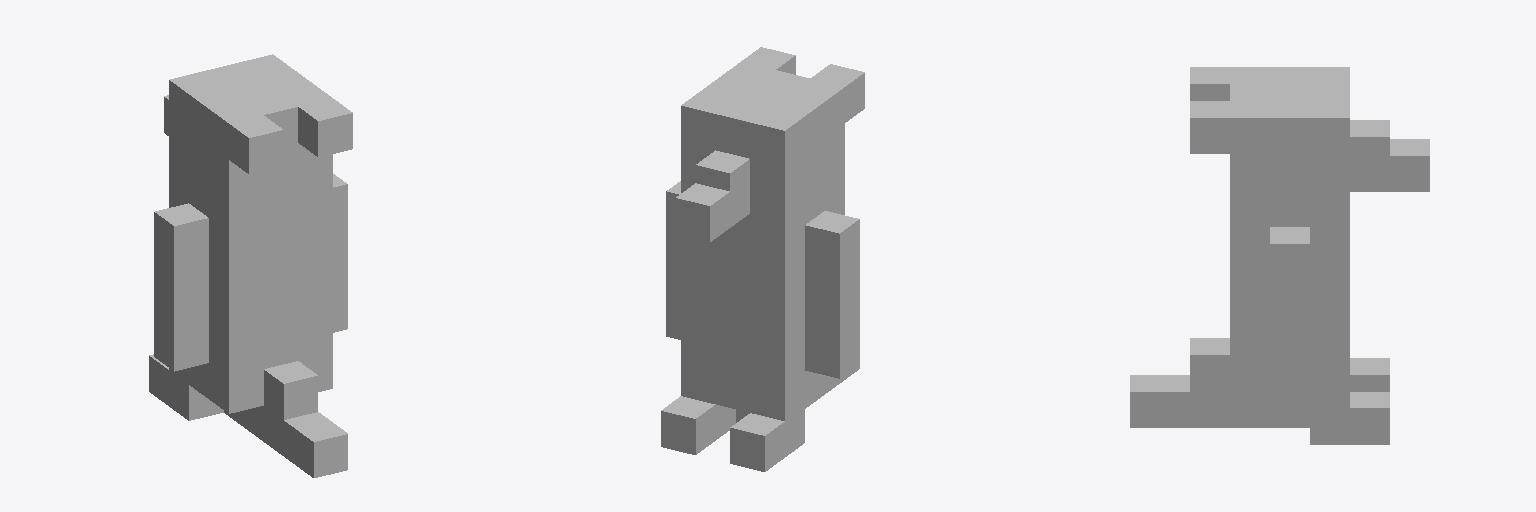
File: penguin.obj
3 renders of one model, left to right at view 1: azimuth 30°, elevation 25°; view 2: azimuth 150°, elevation 25°; view 3: azimuth 270°, elevation 25°, orthographic.
Parts seen in each view (by area): view 1: penguin; view 2: penguin; view 3: penguin.
Boxes of the visible parts, <box> form: penguin: <box>149,54,352,477</box>; penguin: <box>661,47,864,471</box>; penguin: <box>1130,67,1429,444</box>.
Size of the model in its own units: 0.625 by 1.12 by 0.9375.